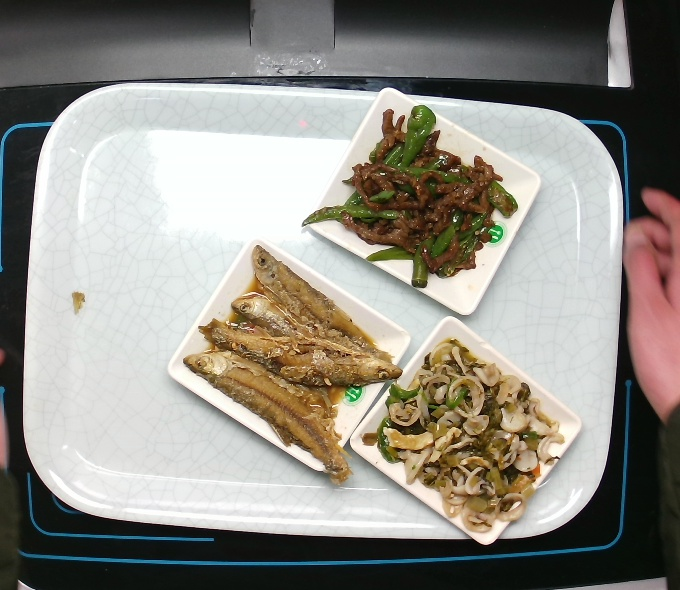wcq-QingJiaoNiuRou: (298, 100, 517, 295)
wcq-XiaoXiYu: (174, 237, 403, 496)
wcq-XueCaiYouYu: (368, 330, 579, 545)
